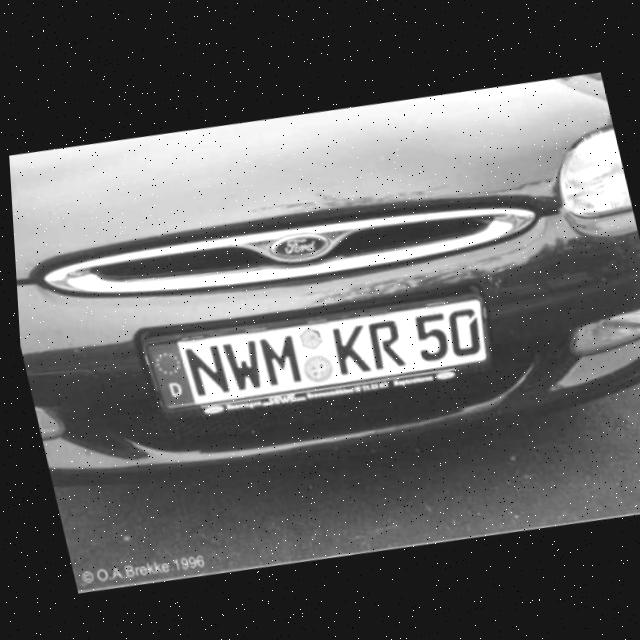license-plates: (146, 301, 488, 409)
